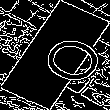O_NW: (15, 24, 95, 86)
